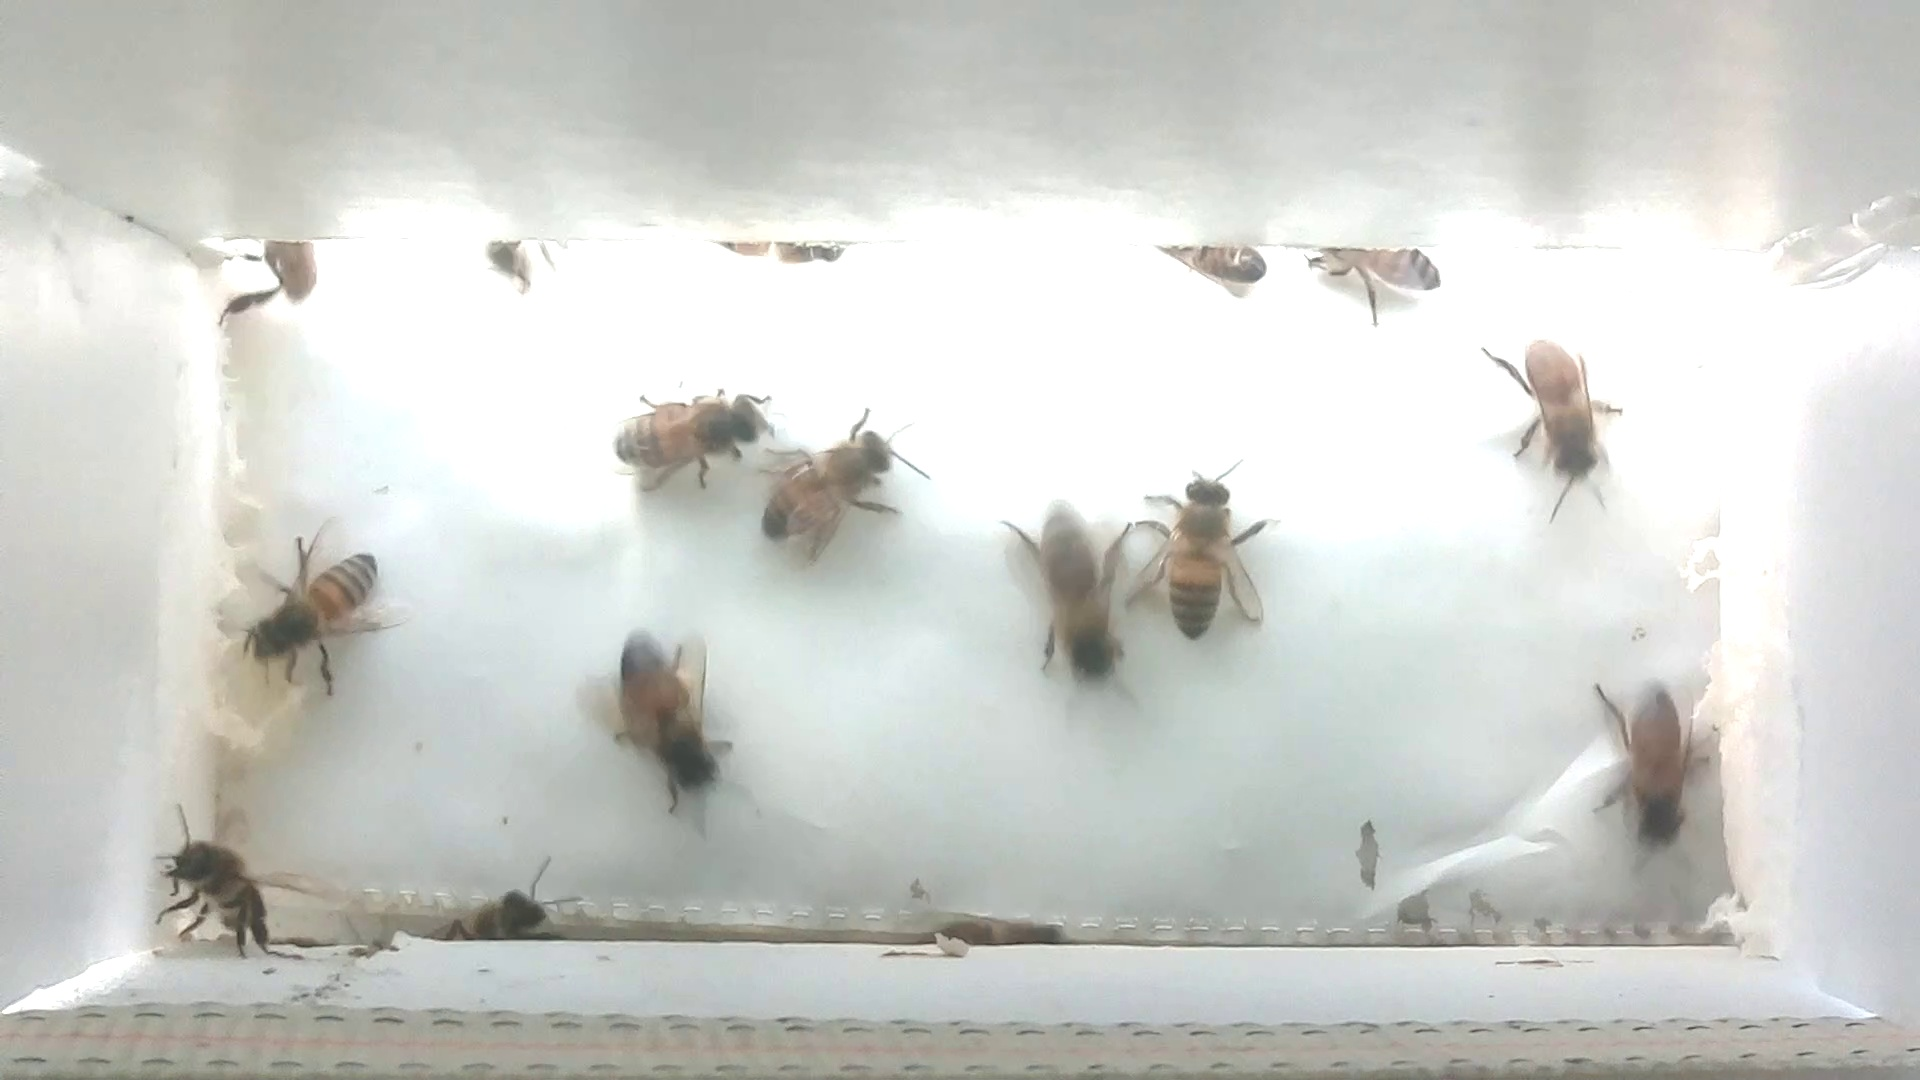bee: (231, 508, 446, 700), (575, 616, 754, 811), (1000, 489, 1150, 705), (1472, 326, 1630, 525), (1134, 454, 1278, 659), (748, 411, 935, 560), (156, 800, 315, 963), (1584, 665, 1720, 845), (597, 378, 778, 488), (438, 856, 574, 959), (1308, 235, 1451, 324), (218, 216, 330, 324), (1153, 231, 1273, 303), (705, 225, 862, 276), (479, 225, 574, 305), (918, 909, 1069, 957)
